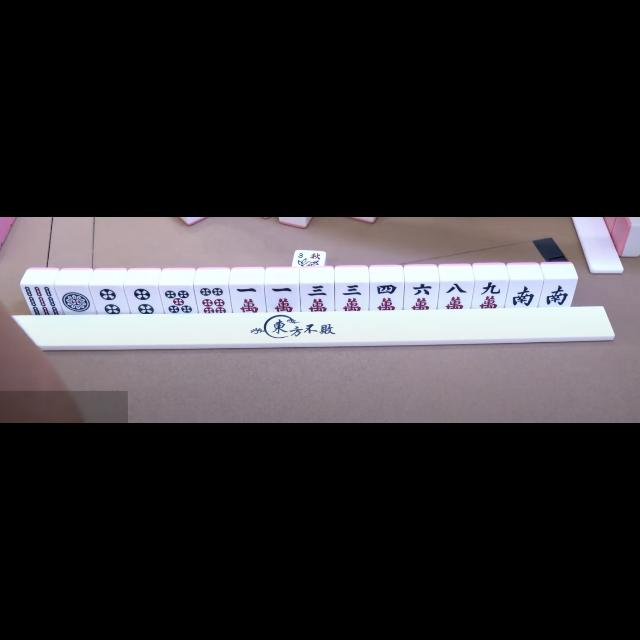b9: (22, 284, 58, 316)
c1: (232, 284, 264, 314), (268, 284, 298, 314)
c3: (301, 283, 333, 313), (336, 282, 368, 312)
c4: (370, 282, 402, 312)
c6: (404, 281, 438, 311)
c8: (440, 280, 472, 310)
c9: (474, 280, 506, 308)
d1: (58, 284, 92, 314)
d2: (94, 284, 126, 314), (128, 284, 160, 314)
d5: (161, 284, 195, 314)
d6: (197, 284, 229, 314)
s3: (294, 250, 326, 262)
ws: (508, 280, 540, 308), (542, 280, 574, 308)
